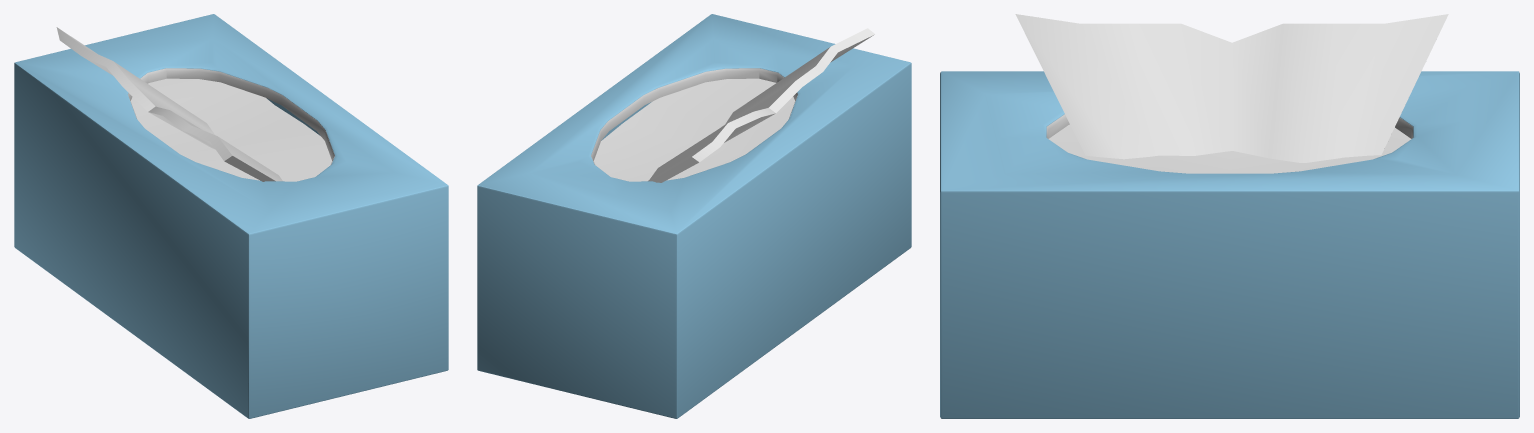
The model's file is TissueBox.fbx.
3 renders of one model, left to right at view 1: azimuth 30°, elevation 25°; view 2: azimuth 150°, elevation 25°; view 3: azimuth 270°, elevation 25°, orthographic. The views are drawn at different scales.
Parts seen in each view (by area): view 1: TissueBox; view 2: TissueBox; view 3: TissueBox.
Boxes of the visible parts, x1=… form: TissueBox: x1=14, y1=14, x2=448, y2=418; TissueBox: x1=477, y1=14, x2=911, y2=418; TissueBox: x1=940, y1=14, x2=1519, y2=418.
Bounding box in the file's own units: 39.7 × 45.1 × 80.65.
